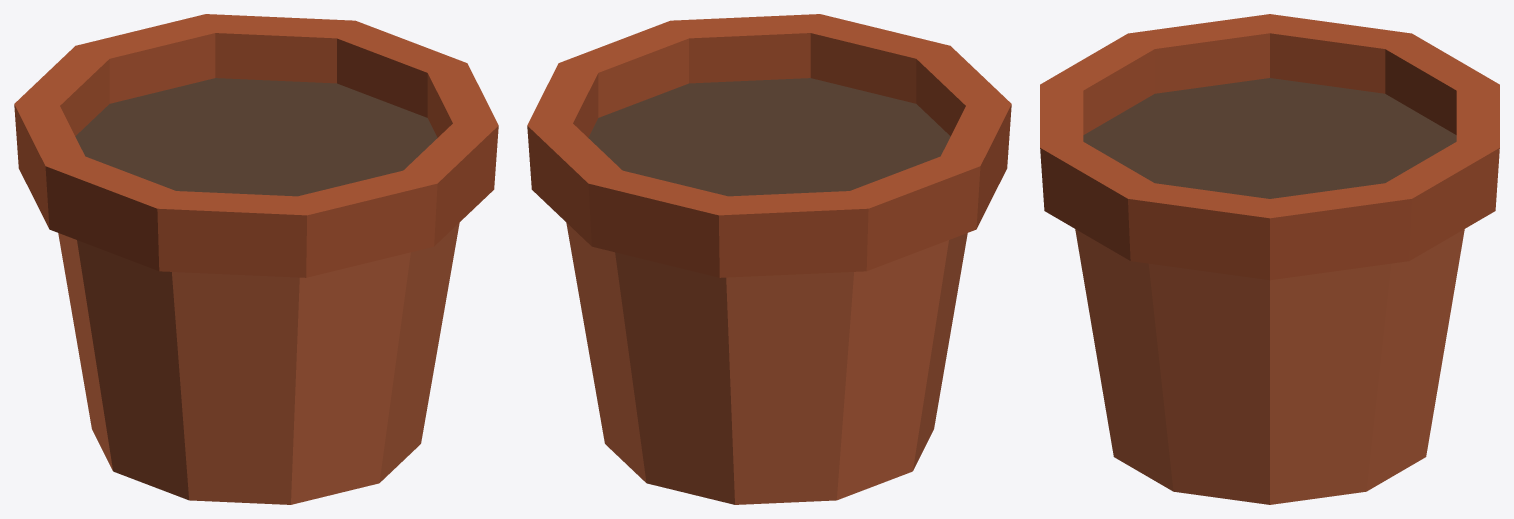
Rendered from Pot_Small.fbx.
The picture shows the model from 3 angles, left to right: view 1: azimuth 30°, elevation 25°; view 2: azimuth 150°, elevation 25°; view 3: azimuth 270°, elevation 25°; orthographic projection.
Parts seen in each view (by area): view 1: Pot_Small; view 2: Pot_Small; view 3: Pot_Small.
Boxes of the visible parts, x1,y1,x2,y2 form: Pot_Small: (14, 14, 498, 504); Pot_Small: (527, 14, 1011, 504); Pot_Small: (1040, 14, 1499, 504).
Bounding box in the file's own units: 0.2332 × 0.17 × 0.2218.
